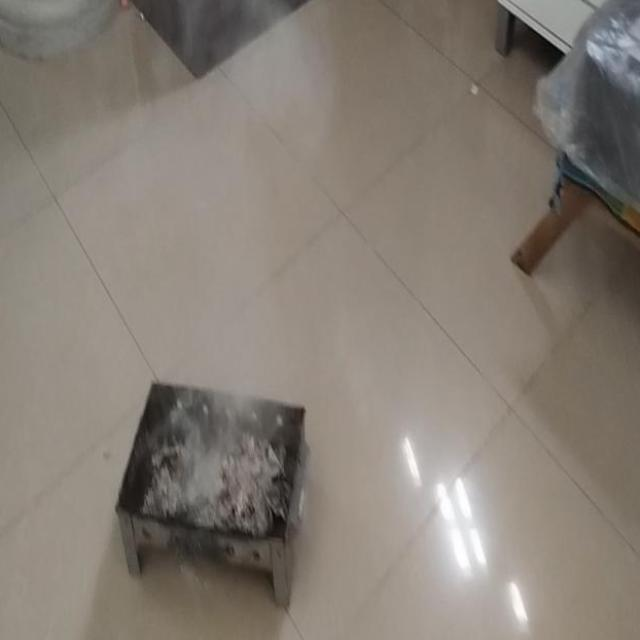fire: (186, 376, 240, 494)
